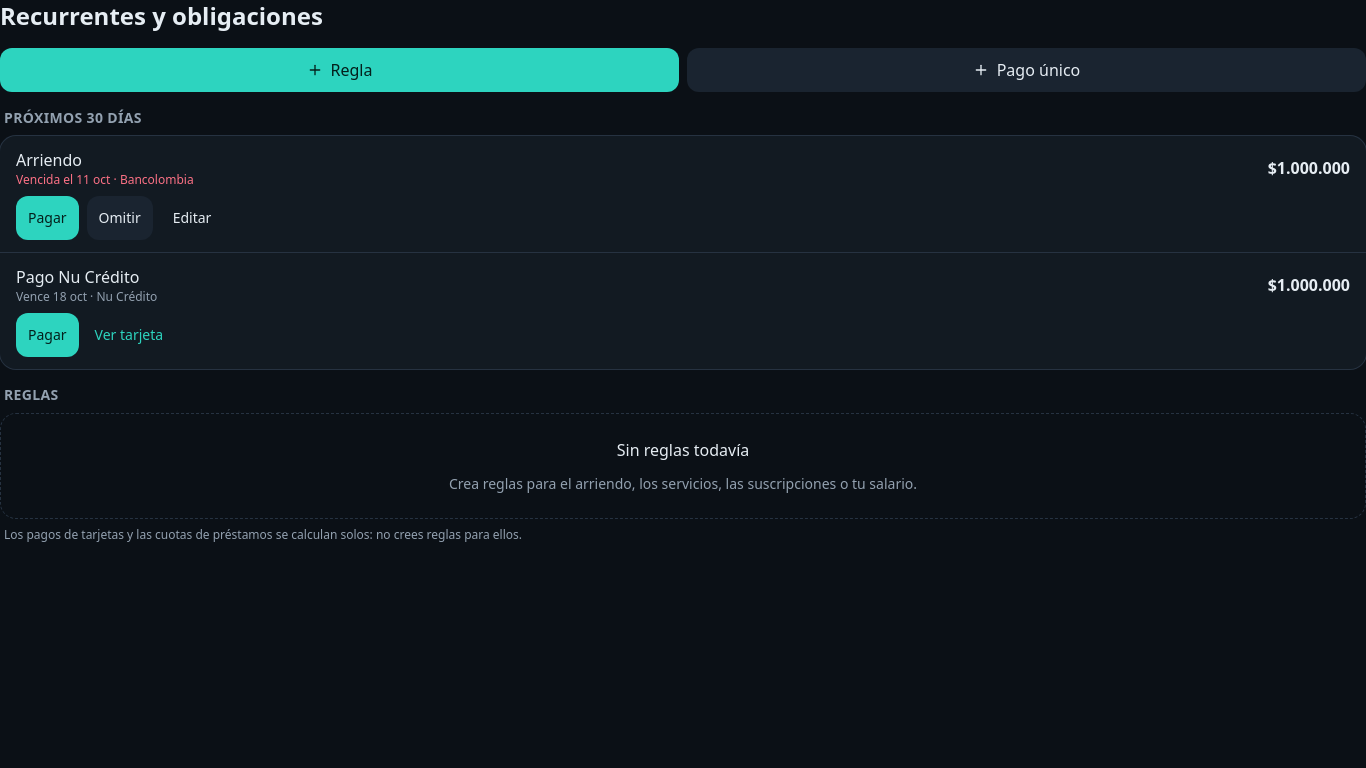
it: RecurringPage (spec 8.11) › refreshes the list and closes the sheet when completing hits a 409 NOT_PENDING
Click the button with aria-label "Pagar Arriendo".
click(47, 218)  # box [16,196,79,240]
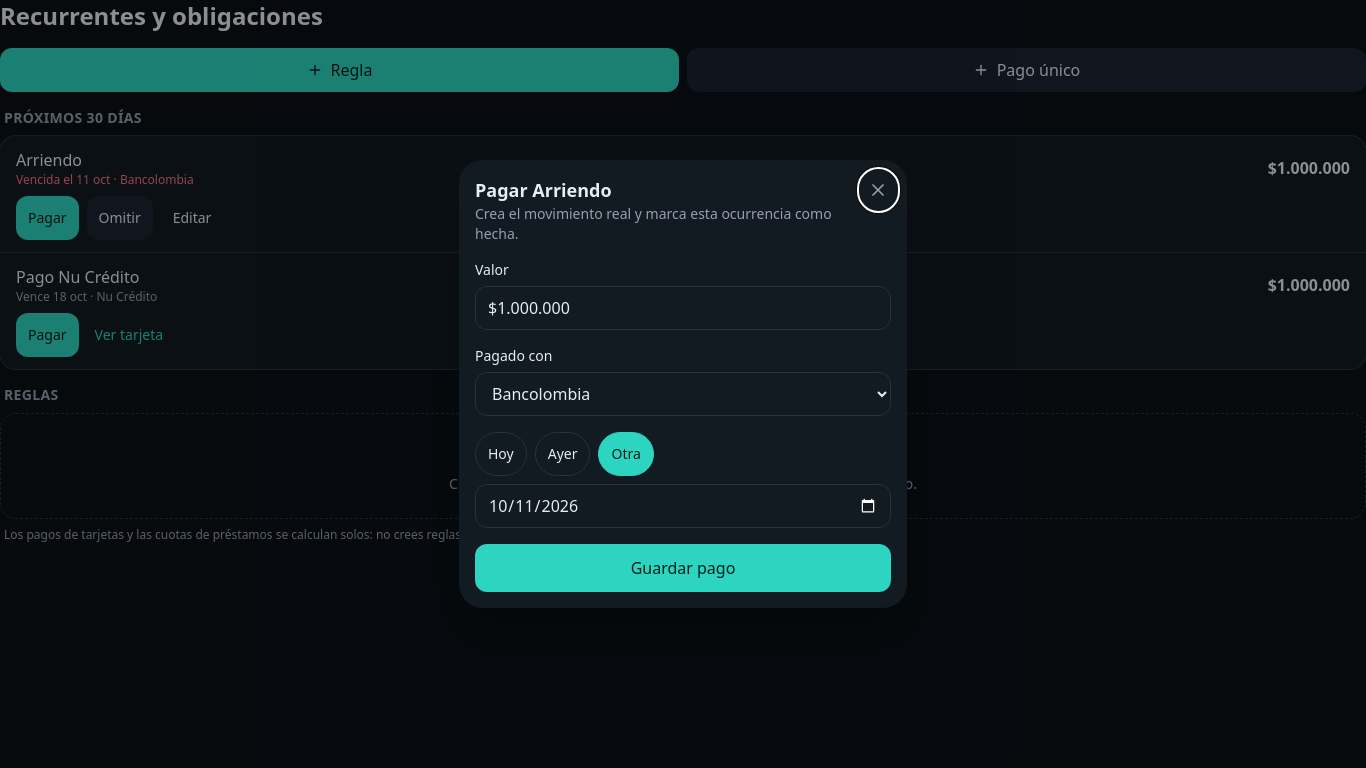
Click the button "Guardar pago".
click(683, 568)  # box [475,544,891,592]
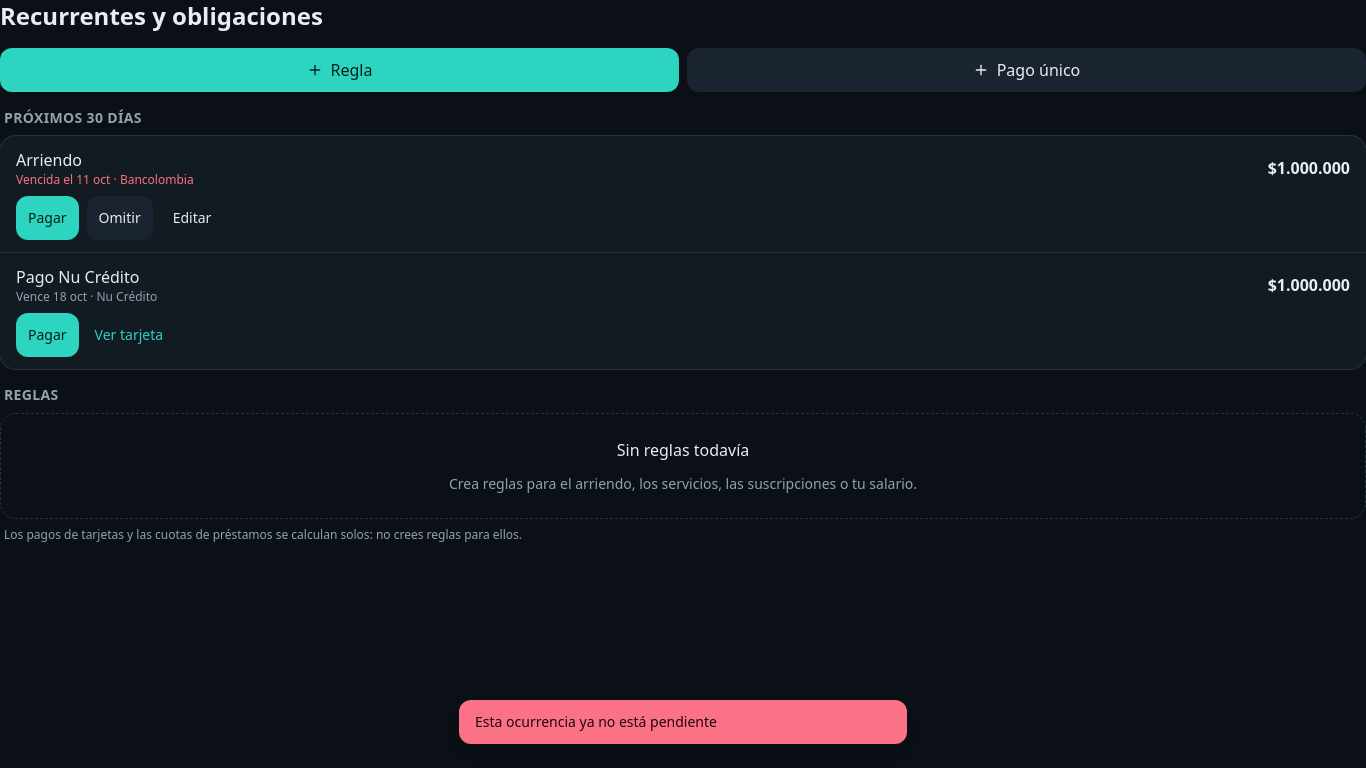
Check: the message reads "Esta ocurrencia ya no está pendiente", box [475,712,717,731]
Check: the dialog is gone
